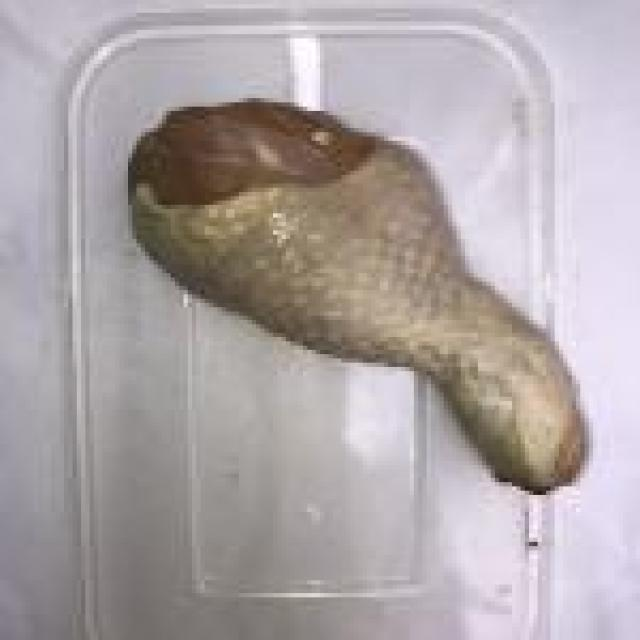leg: (128, 91, 592, 499)
